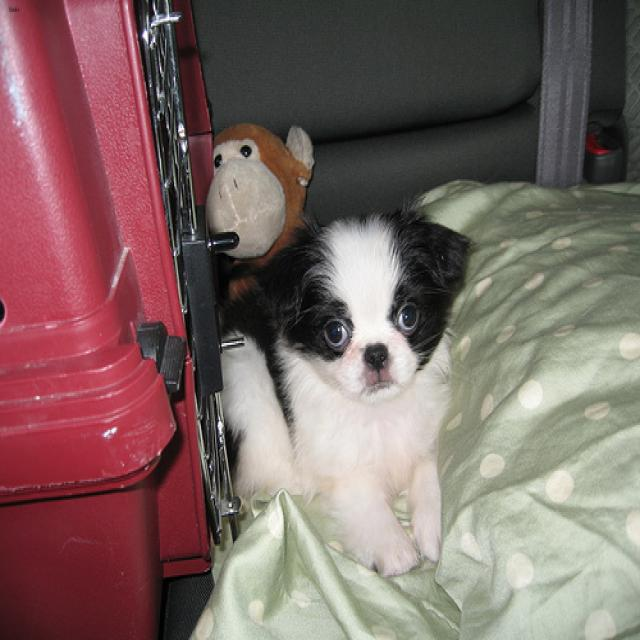dog-japanese_chin: (212, 181, 479, 594)
